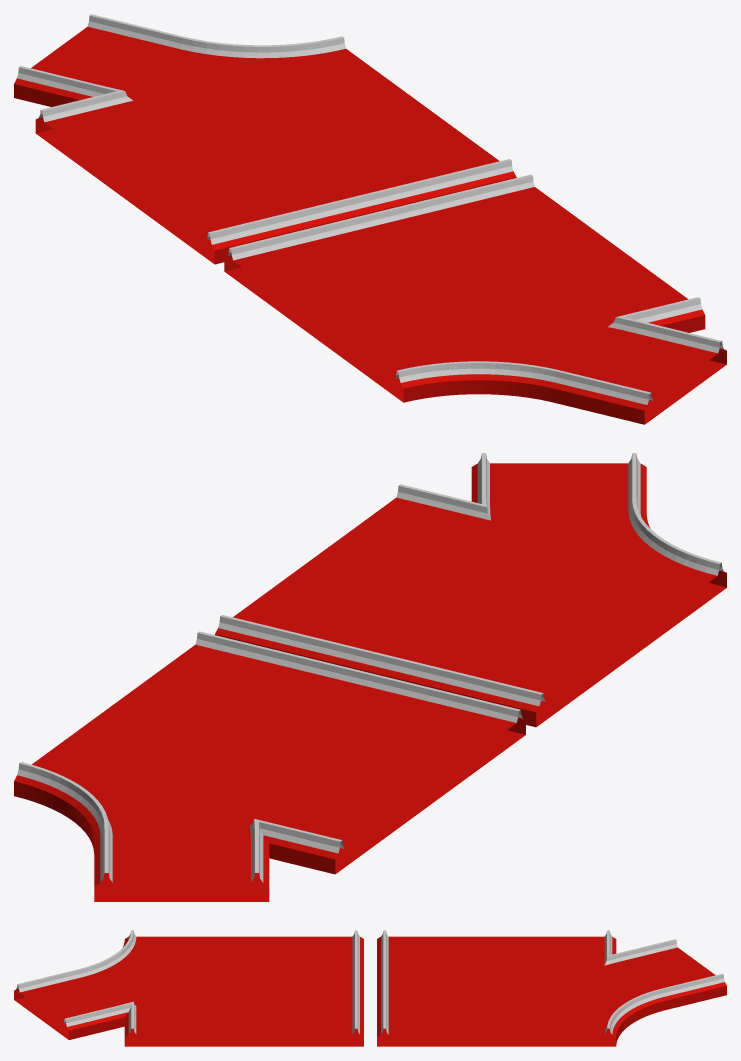
Rendered from SM_Road_Highway_Exchanger.fbx.
The picture shows the model from 3 angles, top to bottom: view 1: azimuth 30°, elevation 25°; view 2: azimuth 150°, elevation 25°; view 3: azimuth 270°, elevation 25°; orthographic projection. The views are drawn at different scales.
Parts seen in each view (by area): view 1: Highway_Exchanger; view 2: Highway_Exchanger; view 3: Highway_Exchanger.
Part boxes in pixels (x1=…): Highway_Exchanger: x1=14, y1=14, x2=726, y2=424; Highway_Exchanger: x1=14, y1=453, x2=726, y2=901; Highway_Exchanger: x1=14, y1=930, x2=726, y2=1046.
Bounding box in the file's own units: 3600 × 310 × 11027.
